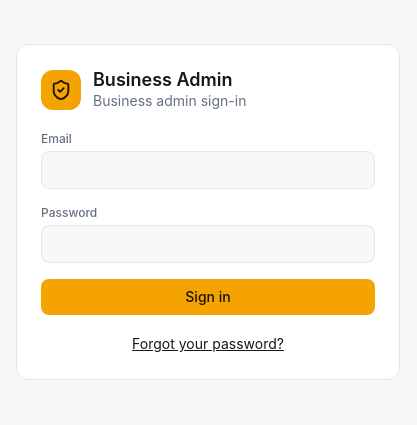
Test: the two sign-ins › the platform owner is refused on the business page, with a link to theirs
The width and height of the screenshot is (417, 425).
In the field labelled "Email": (208,170) [41, 151, 375, 189], type "o@x.test"
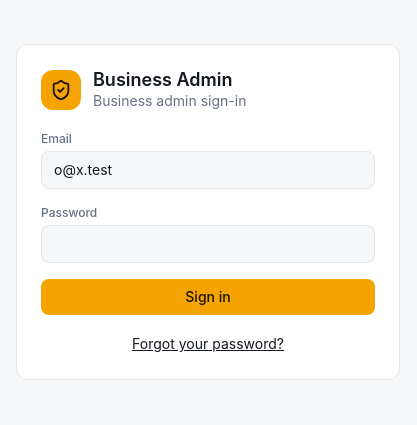
In the password field labelled "Password": (208,244) [41, 225, 375, 263], type "a-long-password"
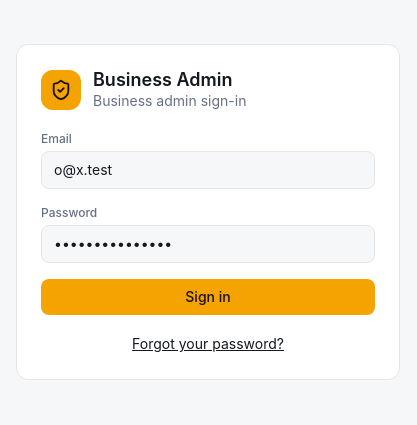
Click the button "Sign in": (208,297) [41, 279, 375, 315]
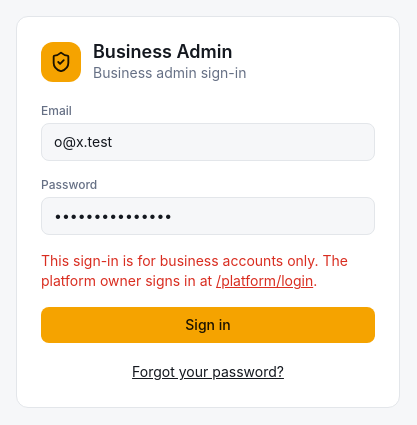
Check: the message shows "business accounts only", box [41, 252, 348, 289]
Check: the link "/platform/login" is shown, box [216, 272, 313, 289]
